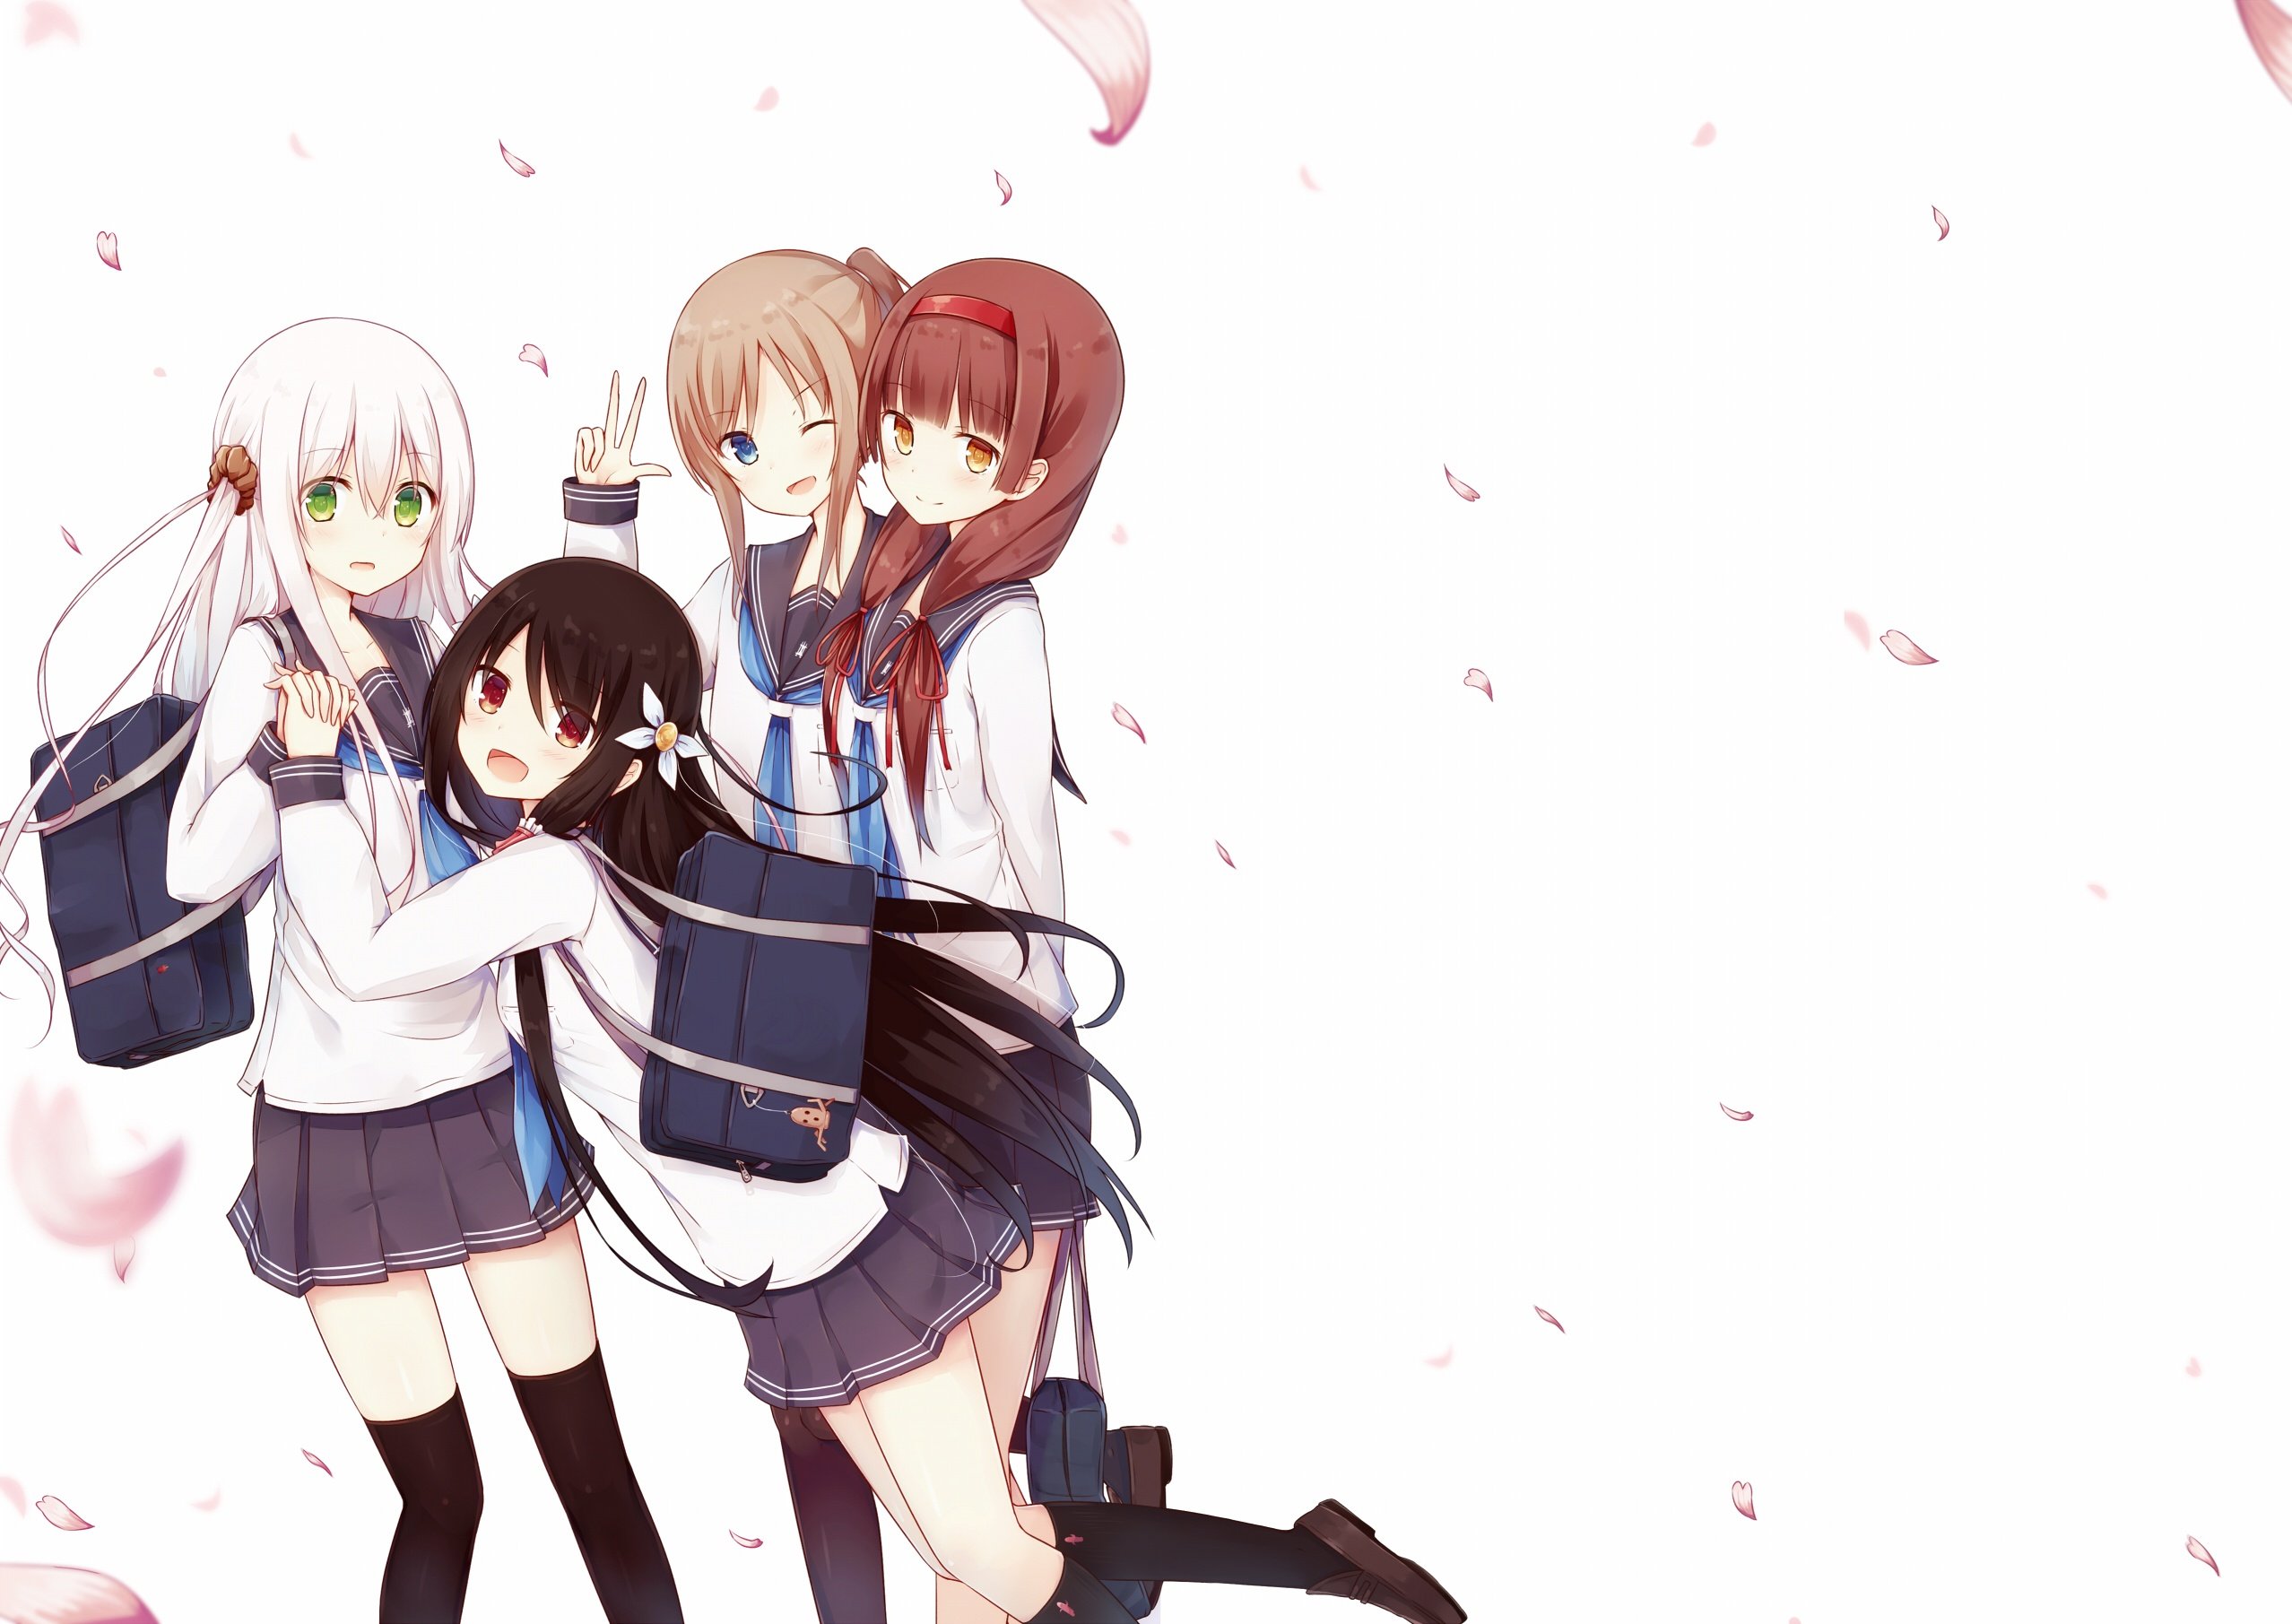纸片人正脸: (206, 316, 492, 624), (839, 259, 1121, 560), (422, 561, 703, 839), (650, 253, 906, 557)
